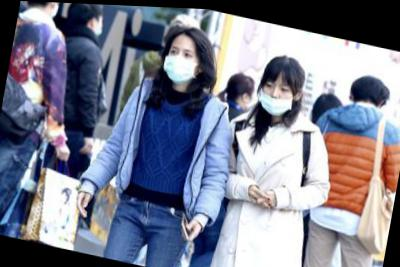OK: (163, 38, 201, 86)
WRONG: (258, 70, 298, 117)
